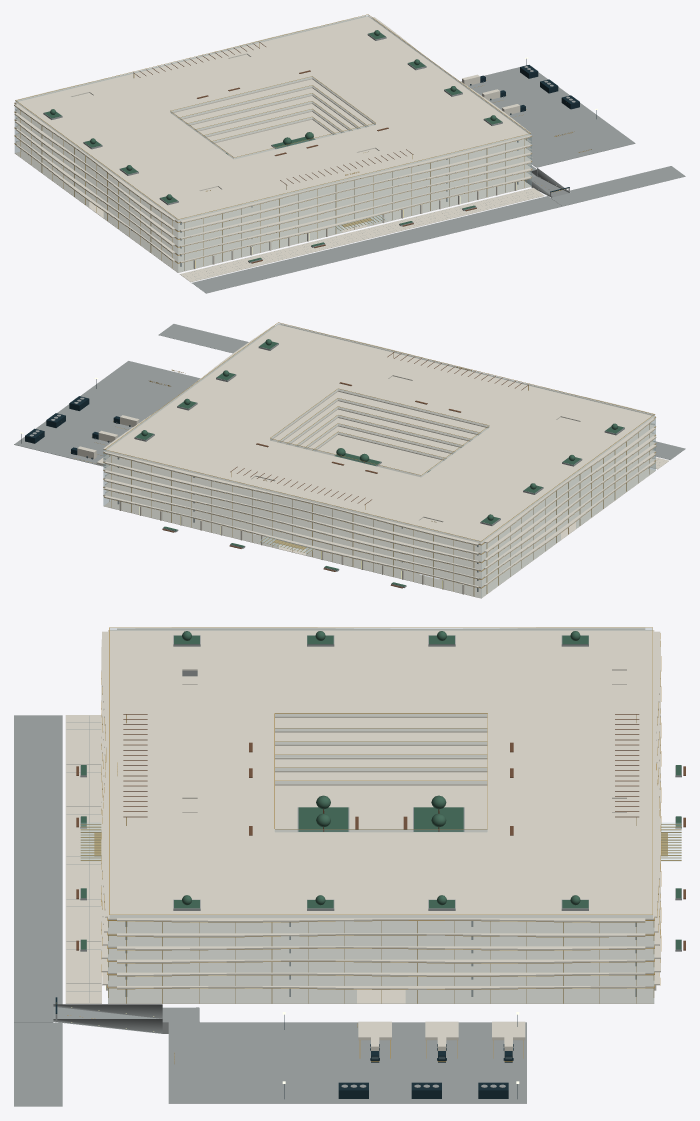
File: mall-lod0.glb
3 views of the same model, one above another, from view 1: azimuth 30°, elevation 25°; view 2: azimuth 150°, elevation 25°; view 3: azimuth 270°, elevation 25° (orthographic). The views are drawn at different scales.
Visible parts, largest first — view 1: mall_ivory, mall_glass, mall_stone, mall_gold, mall_leaf, mall_dark, mall_wood; view 2: mall_ivory, mall_glass, mall_stone, mall_gold, mall_leaf, mall_dark, mall_wood; view 3: mall_ivory, mall_stone, mall_glass, mall_gold, mall_leaf, mall_wood, mall_dark.
Part boxes in pixels (x1=…): mall_ivory: x1=14, y1=16, x2=544, y2=282; mall_glass: x1=14, y1=15, x2=531, y2=272; mall_stone: x1=28, y1=32, x2=685, y2=293; mall_gold: x1=14, y1=14, x2=591, y2=270; mall_leaf: x1=44, y1=30, x2=501, y2=261; mall_dark: x1=470, y1=59, x2=596, y2=192; mall_wood: x1=133, y1=42, x2=476, y2=263; mall_ivory: x1=77, y1=324, x2=669, y2=598; mall_glass: x1=103, y1=323, x2=655, y2=597; mall_stone: x1=14, y1=324, x2=685, y2=591; mall_gold: x1=70, y1=322, x2=656, y2=595; mall_leaf: x1=135, y1=339, x2=624, y2=586; mall_dark: x1=21, y1=379, x2=130, y2=459; mall_wood: x1=162, y1=351, x2=528, y2=588; mall_ivory: x1=65, y1=627, x2=660, y2=1057; mall_stone: x1=14, y1=635, x2=681, y2=1106; mall_glass: x1=81, y1=628, x2=681, y2=1058; mall_gold: x1=56, y1=627, x2=681, y2=1063; mall_leaf: x1=81, y1=631, x2=681, y2=949; mall_wood: x1=76, y1=714, x2=685, y2=950; mall_dark: x1=55, y1=997, x2=517, y2=1098.
Bounding box in the file's own units: 307 × 39.47 × 221.
